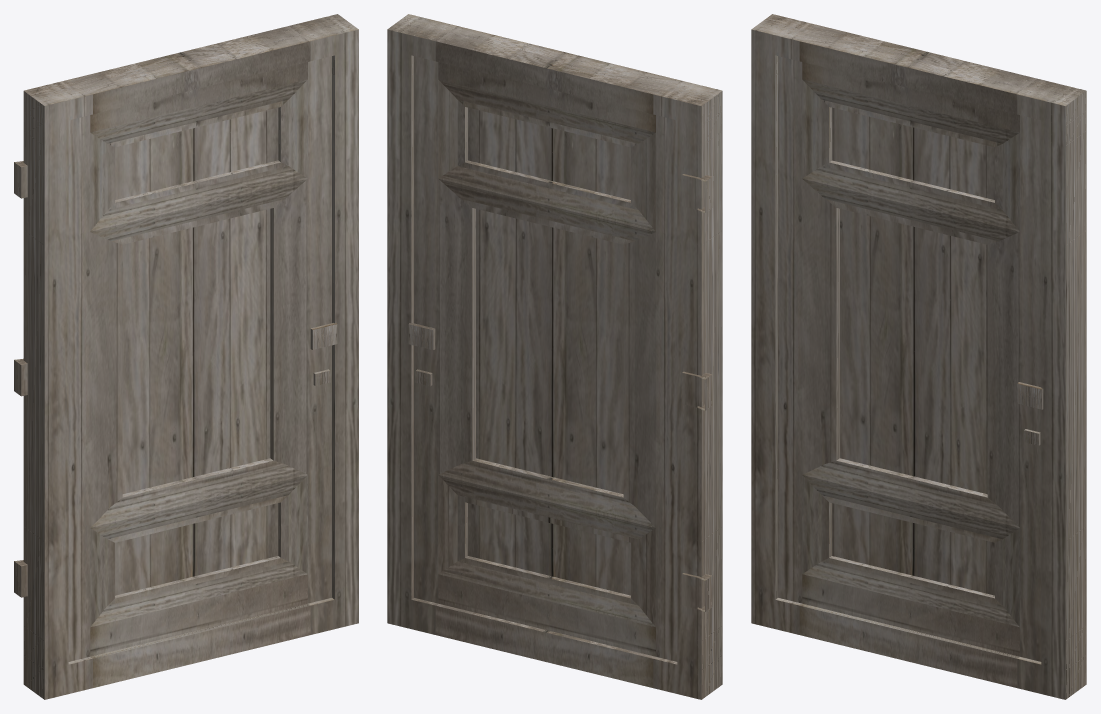
The model's file is door.glb.
3 renders of one model, left to right at view 1: azimuth 30°, elevation 25°; view 2: azimuth 150°, elevation 25°; view 3: azimuth 330°, elevation 25°, orthographic.
Parts seen in each view (by area): view 1: DoorUpstairs; view 2: DoorUpstairs; view 3: DoorUpstairs.
Boxes of the visible parts, <box> form: DoorUpstairs: <box>14,14,358,699</box>; DoorUpstairs: <box>387,14,722,699</box>; DoorUpstairs: <box>751,14,1086,699</box>.
Size of what is drawn, in the model's own units: 1.26 by 2.23 by 0.1704.
1 material, 1 textured.
